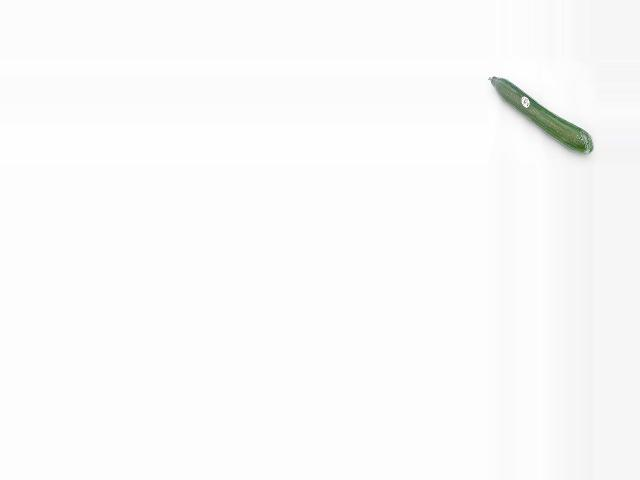cucumber: (488, 76, 592, 153)
